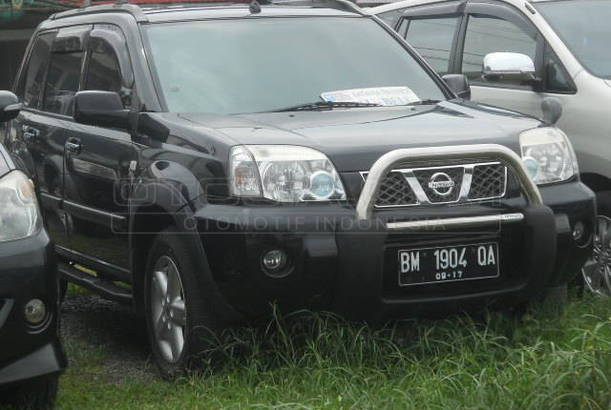plate: (396, 244, 500, 284)
